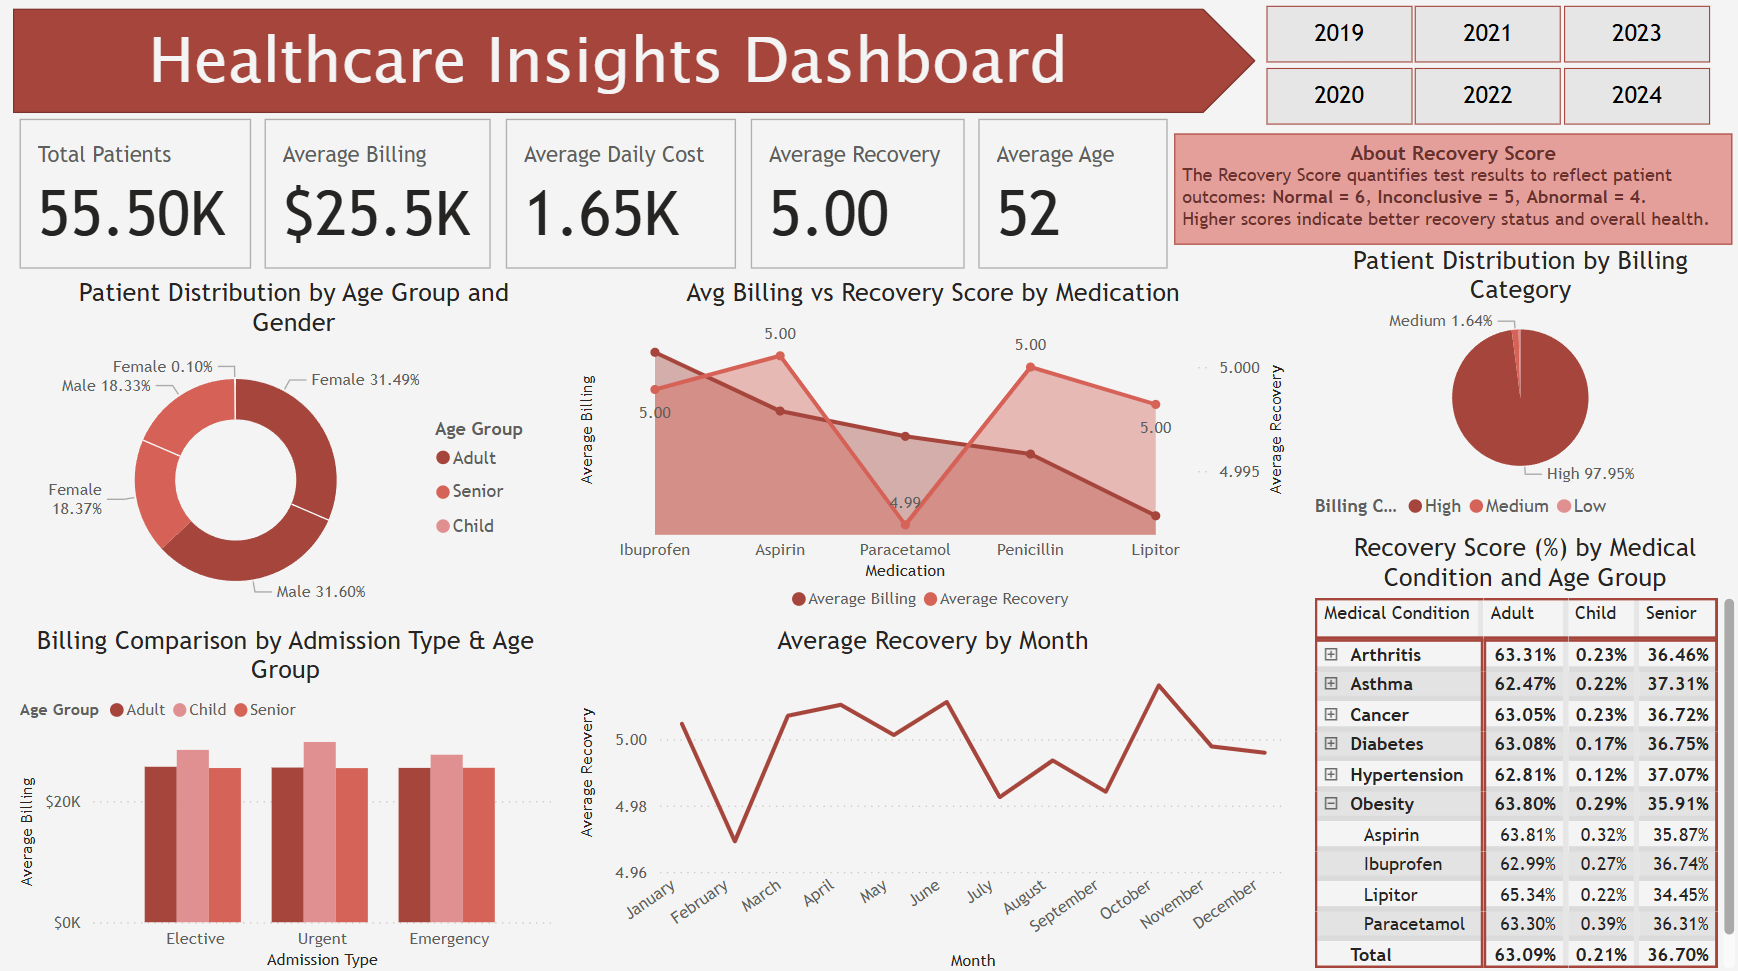

Layout of this report page (visuals, bound fields, positions):
{"tool":"powerbi","page":{"name":"Page 1","canvas":[1280,720],"ordinal":0},"visuals":[{"type":"cardVisual","fields":{"Data":["Tbl_Measures.Total Patients"]},"box":[11,85.7,180.2,120.9],"z":0},{"type":"cardVisual","fields":{"Data":["Tbl_Measures.Average Billing"]},"box":[191.2,85.7,176.9,120.9],"z":1000},{"type":"cardVisual","fields":{"Data":["Tbl_Measures.Average Daily Cost"]},"box":[368.1,85.7,179.1,120.9],"z":2000},{"type":"cardVisual","fields":{"Data":["Tbl_Measures.Average Recovery"]},"box":[547.3,85.7,167,120.9],"z":3000},{"type":"cardVisual","fields":{"Data":["Tbl_Measures.Average Age"]},"box":[714.3,85.7,149.5,120.9],"z":4000},{"type":"donutChart","fields":{"Category":["Health data.Age Group"],"Series":["Health data.Gender"],"Y":["Tbl_Measures.Total Patients"]},"box":[24.2,223.1,361.5,238.5],"z":5000},{"type":"lineChart","fields":{"Category":["Health data.Date of Admission.Variation.Date Hierarchy.Month"],"Y":["Tbl_Measures.Average Recovery"]},"box":[385.7,482.4,500,237.4],"z":6000},{"type":"pivotTable","fields":{"Rows":["Health data.Medical Condition","Health data.Medication"],"Columns":["Health data.Age Group"],"Values":["Tbl_Measures.Total Patients"]},"box":[953.8,401.1,297.8,295.6],"z":7000},{"type":"pieChart","fields":{"Category":["Health data.Billing Category"],"Y":["Tbl_Measures.Total Patients"]},"box":[897.8,146.2,375.8,239.6],"z":8000},{"type":"slicer","fields":{"Values":["Health data.Date of Admission.Variation.Date Hierarchy.Year"]},"box":[897.8,0,375.8,120.9],"z":9000},{"type":"areaChart","fields":{"Category":["Health data.Medication"],"Y":["Tbl_Measures.Average Billing"],"Y2":["Tbl_Measures.Average Recovery"]},"box":[385.7,223.1,500,238.5],"z":10000},{"type":"clusteredColumnChart","fields":{"Category":["Health data.Admission Type"],"Series":["Health data.Age Group"],"Y":["Tbl_Measures.Average Billing"]},"box":[11,461.5,374.7,257.1],"z":11000},{"type":"shape","box":[60.4,2.7,797.3,82.3],"z":12000}]}

Visuals, with their boxes in screenshot pixels (x1, y1, x2, y2), scaled from the page's 1280x720 canvas onto the 1738x971 screenshot:
cardVisual - Tbl_Measures.Total Patients: detection(15, 116, 260, 279)
cardVisual - Tbl_Measures.Average Billing: detection(260, 116, 500, 279)
cardVisual - Tbl_Measures.Average Daily Cost: detection(500, 116, 743, 279)
cardVisual - Tbl_Measures.Average Recovery: detection(743, 116, 970, 279)
cardVisual - Tbl_Measures.Average Age: detection(970, 116, 1173, 279)
donutChart - Health data.Age Group x Health data.Gender: detection(33, 301, 524, 623)
lineChart - Health data.Date of Admission.Variation.Date Hierarchy.Month x Tbl_Measures.Average Recovery: detection(524, 651, 1203, 970)
pivotTable - Health data.Medical Condition x Health data.Medication: detection(1295, 541, 1699, 940)
pieChart - Health data.Billing Category x Tbl_Measures.Total Patients: detection(1219, 197, 1729, 520)
slicer - Health data.Date of Admission.Variation.Date Hierarchy.Year: detection(1219, 0, 1729, 163)
areaChart - Health data.Medication x Tbl_Measures.Average Billing: detection(524, 301, 1203, 623)
clusteredColumnChart - Health data.Admission Type x Health data.Age Group: detection(15, 622, 524, 969)
shape: detection(82, 4, 1165, 115)
